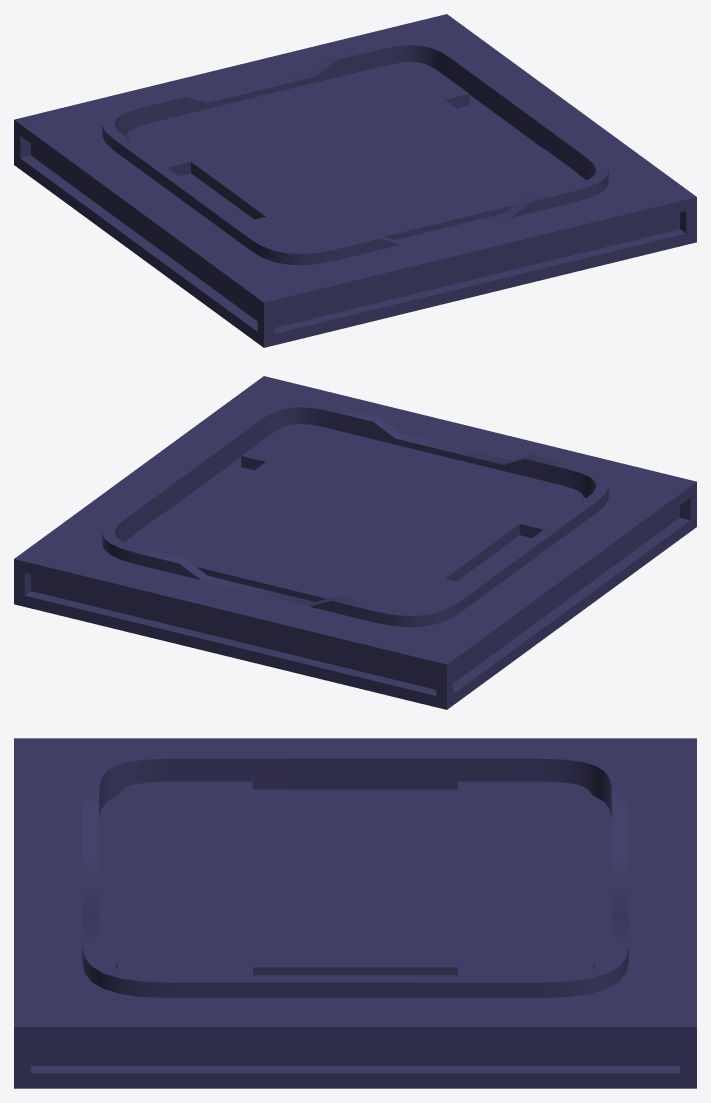
Rendered from Bridge_A_2x2m.FBX.
3 renders of one model, top to bottom at view 1: azimuth 30°, elevation 25°; view 2: azimuth 150°, elevation 25°; view 3: azimuth 270°, elevation 25°, orthographic. The views are drawn at different scales.
Parts seen in each view (by area): view 1: Bridge_A_2x2m; view 2: Bridge_A_2x2m; view 3: Bridge_A_2x2m.
Boxes of the visible parts, left/top/right/bottom form: Bridge_A_2x2m: left=14, top=14, right=696, bottom=347; Bridge_A_2x2m: left=14, top=376, right=696, bottom=709; Bridge_A_2x2m: left=14, top=738, right=696, bottom=1088.
Size of the model in its own units: 200 by 33.37 by 200.
